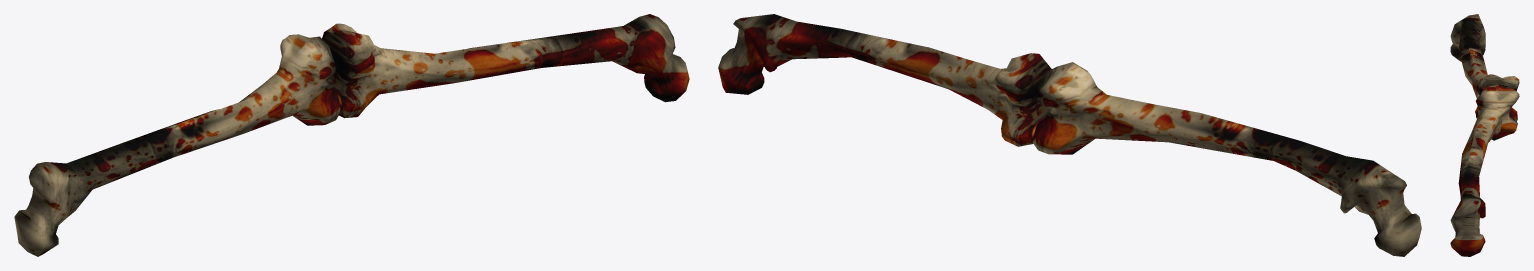
File: table_2.FBX
3 views of the same model, side by side, from view 1: azimuth 30°, elevation 25°; view 2: azimuth 150°, elevation 25°; view 3: azimuth 270°, elevation 25° (orthographic). The views are drawn at different scales.
Visible parts, largest first — view 1: table_2; view 2: table_2; view 3: table_2.
Part boxes in pixels (bbox=[...]): table_2: bbox=[14, 14, 689, 256]; table_2: bbox=[718, 14, 1421, 256]; table_2: bbox=[1450, 14, 1519, 256].
Size of the model in its own units: 0.7615 by 0.1381 by 0.1089.
